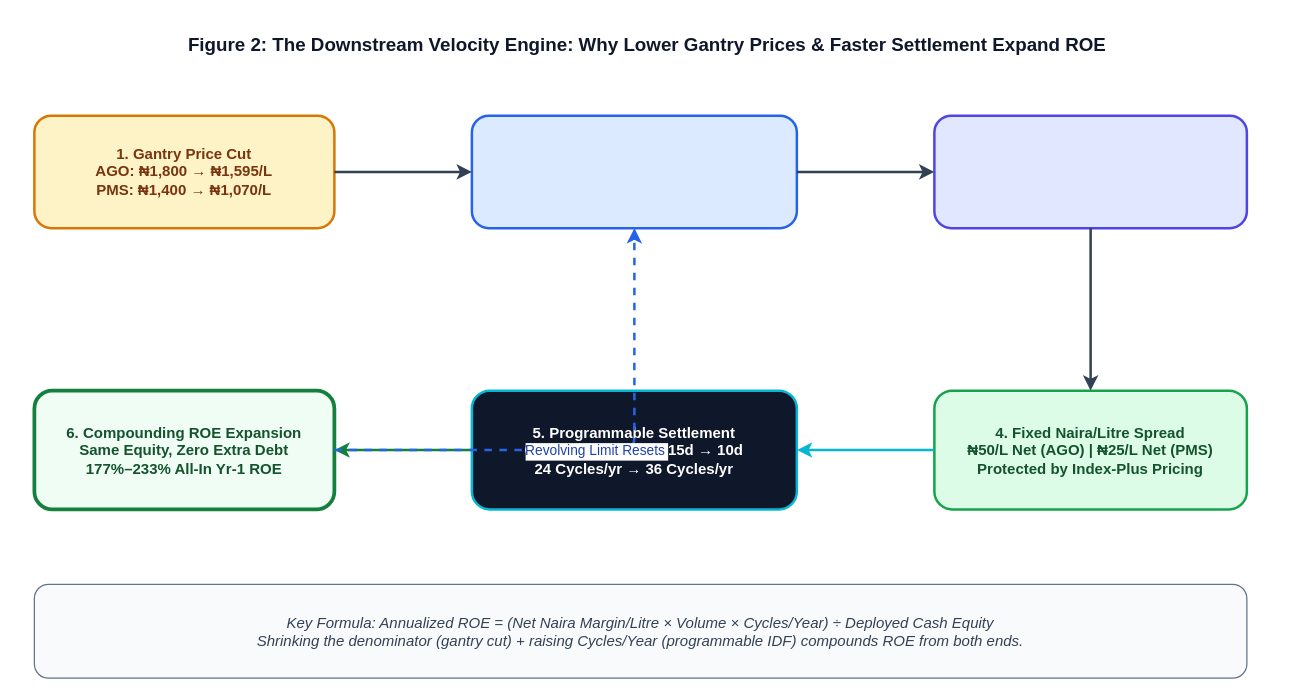
The diagram is 1293 pixels wide and 700 high, and some of its shapes have lost their labels. Here are the shapes that lost their labels. From the top down, the box of each, then its label:
(470, 114, 798, 229): 2. Lower Working-Capital Equity 20% Margin Drops 11%–24% (AGO: ₦12M → ₦10.53M)
(932, 114, 1248, 229): 3. Bank Leverage (4x–5x) 80% LPO / IDF / DFF Line Unlocks Full 33k–45k L Load
